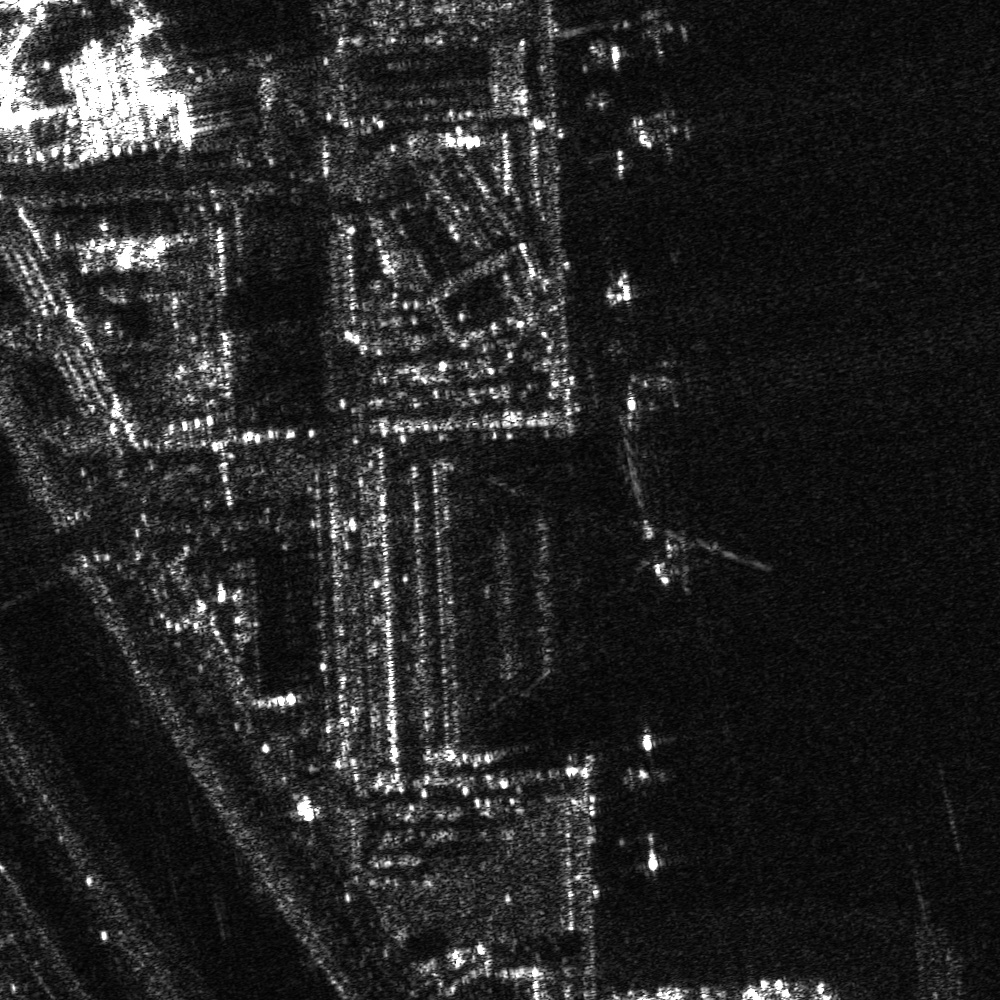A220: (646, 521, 741, 594), (621, 101, 705, 165), (624, 346, 698, 413), (626, 1, 700, 64)
